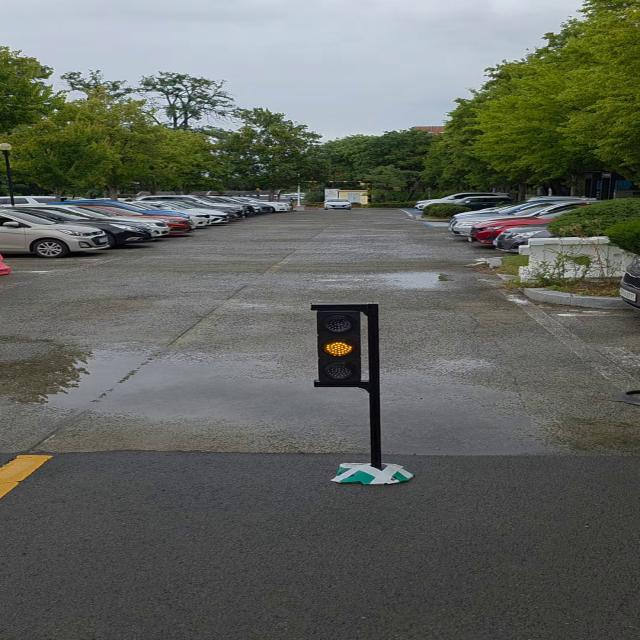yellow: (317, 307, 363, 390)
